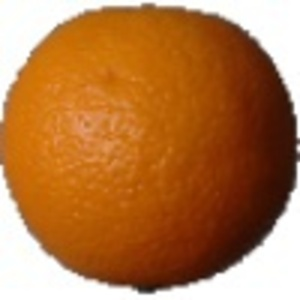laranja: (3, 5, 296, 298)
